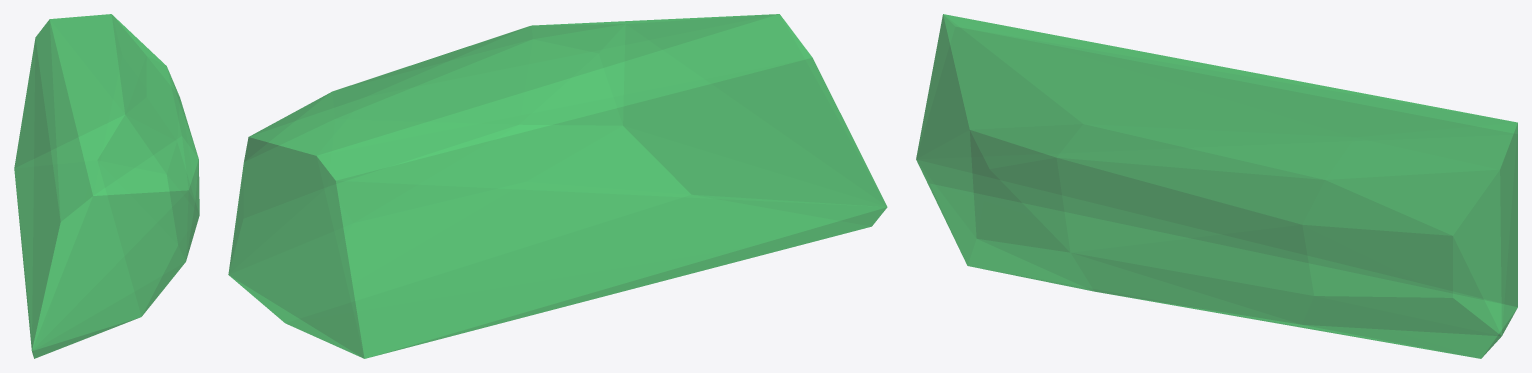
3 views of the same model, side by side, from view 1: azimuth 30°, elevation 25°; view 2: azimuth 150°, elevation 25°; view 3: azimuth 270°, elevation 25° (orthographic). The views are drawn at different scales.
Parts seen in each view (by area): view 1: Shape_IndexedFaceSet.001_Shape_IndexedFaceSet.7627; view 2: Shape_IndexedFaceSet.001_Shape_IndexedFaceSet.7627; view 3: Shape_IndexedFaceSet.001_Shape_IndexedFaceSet.7627.
Boxes of the visible parts, left/top/right/bottom form: Shape_IndexedFaceSet.001_Shape_IndexedFaceSet.7627: left=14, top=14, right=199, bottom=358; Shape_IndexedFaceSet.001_Shape_IndexedFaceSet.7627: left=228, top=14, right=887, bottom=358; Shape_IndexedFaceSet.001_Shape_IndexedFaceSet.7627: left=916, top=14, right=1517, bottom=358.
Bounding box in the file's own units: 0.3494 × 0.1636 × 0.4137.
